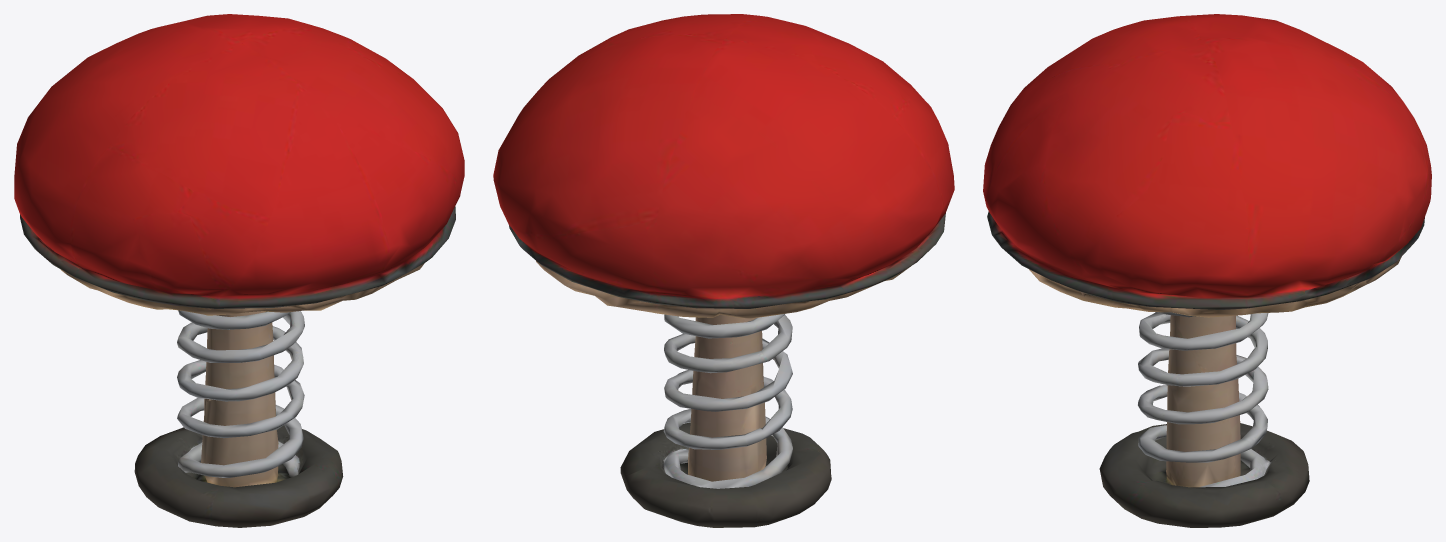
File: spring.glb
3 renders of one model, left to right at view 1: azimuth 30°, elevation 25°; view 2: azimuth 150°, elevation 25°; view 3: azimuth 270°, elevation 25°, orthographic.
Parts seen in each view (by area): view 1: tripo_node_c58257c6-7948-4a8f-b27d-b9d116e8df6b; view 2: tripo_node_c58257c6-7948-4a8f-b27d-b9d116e8df6b; view 3: tripo_node_c58257c6-7948-4a8f-b27d-b9d116e8df6b.
Boxes of the visible parts, left/top/right/bottom form: tripo_node_c58257c6-7948-4a8f-b27d-b9d116e8df6b: left=14, top=14, right=464, bottom=527; tripo_node_c58257c6-7948-4a8f-b27d-b9d116e8df6b: left=493, top=14, right=954, bottom=527; tripo_node_c58257c6-7948-4a8f-b27d-b9d116e8df6b: left=983, top=14, right=1431, bottom=527.
Bounding box in the file's own units: 0.9202 × 1 × 0.9016.
1 material, 1 textured.
